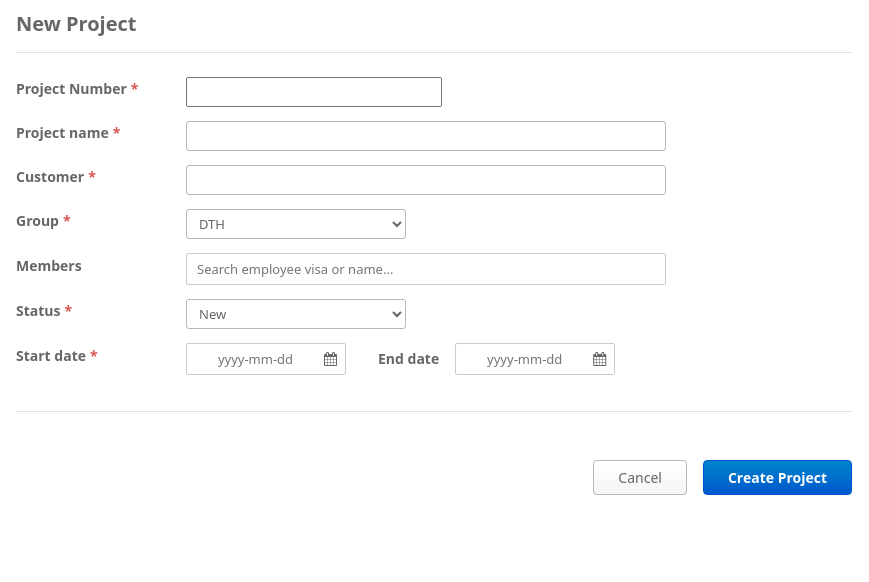
Test case: ProjectForm Component Tests › displays duplicate project number notice when number exists
Type "3116" into the field labelled "Project Number*" at (314, 92), box x1=186 y1=77 x2=442 y2=107
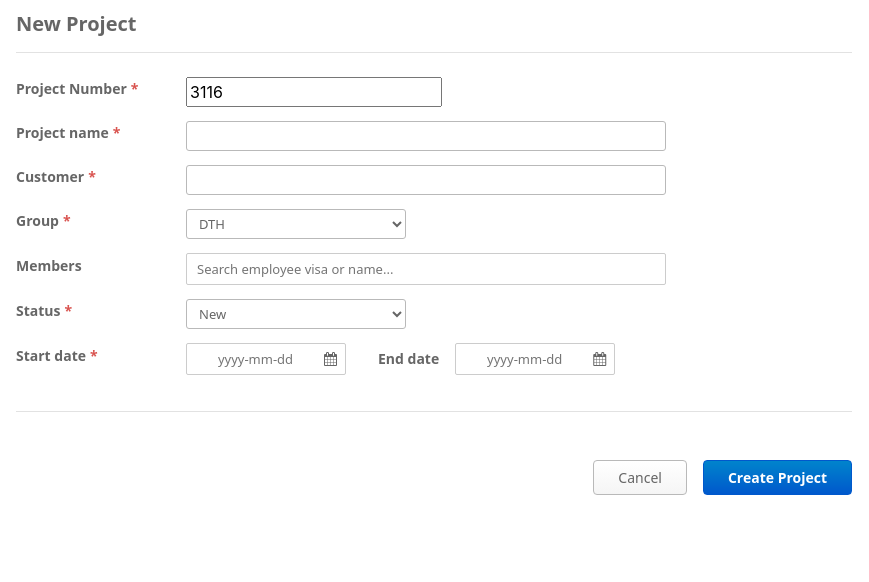
Type "Test Project" into the field labelled "Project name*" at (426, 136), box x1=186 y1=121 x2=666 y2=151
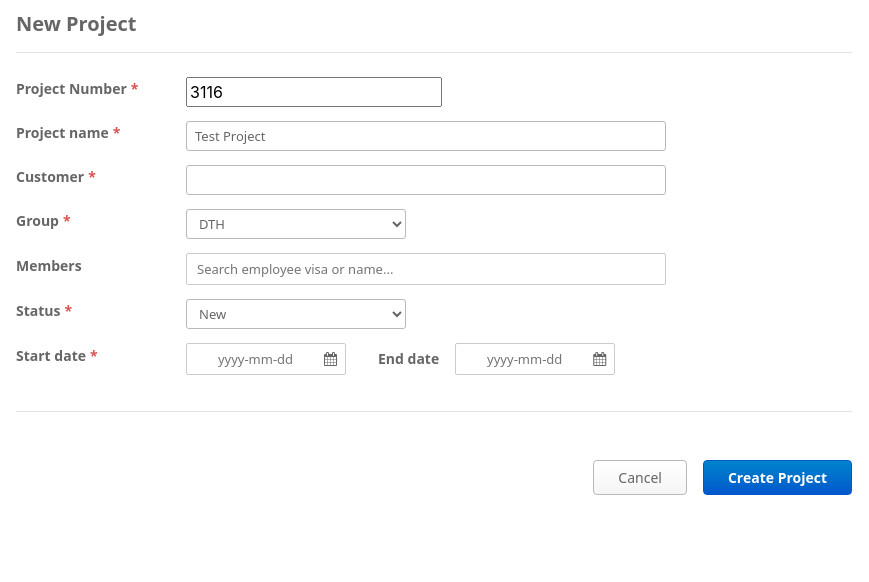
Type "Test Customer" into the field labelled "Customer*" at (426, 180), box x1=186 y1=165 x2=666 y2=195
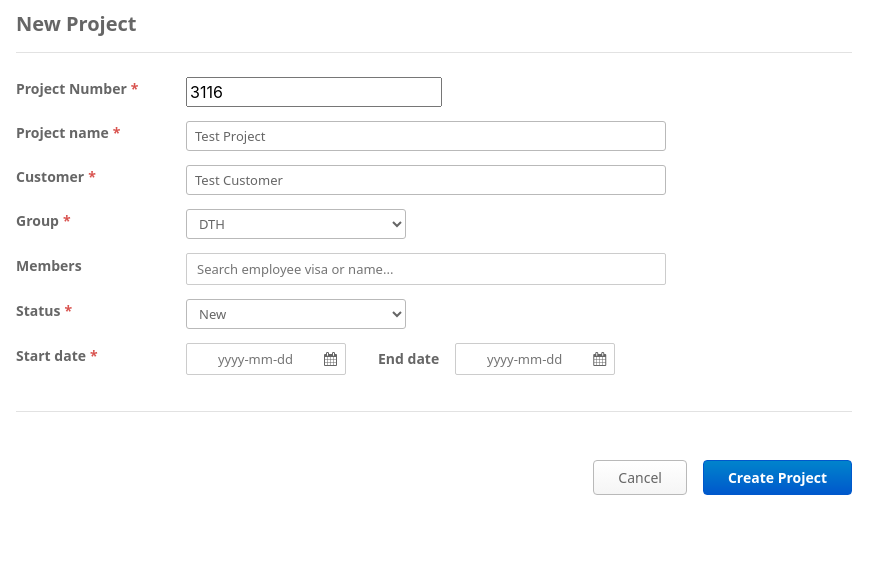
Type "2026-01-01" into the field labelled "Start date*" at (256, 359), box x1=191 y1=344 x2=320 y2=374
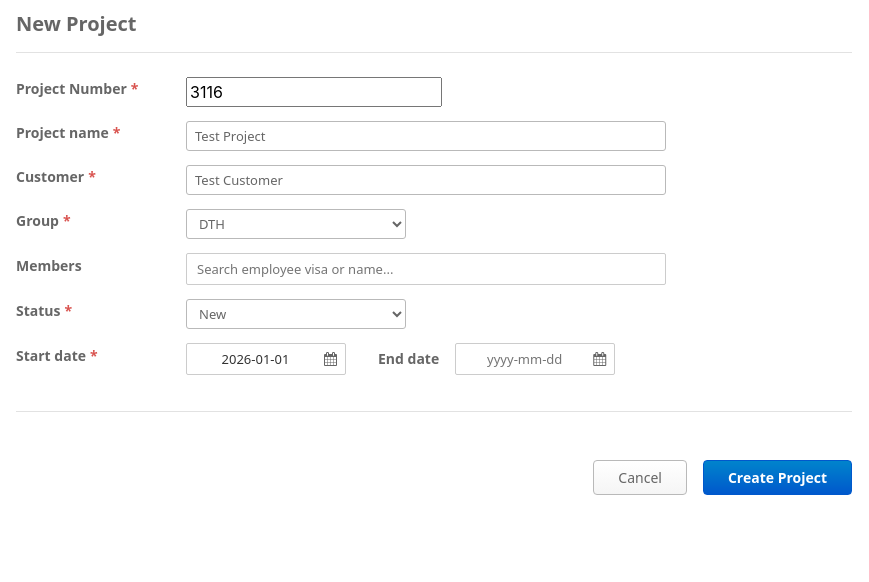
Click the button "Create Project" at (777, 478), box x1=703 y1=460 x2=852 y2=495
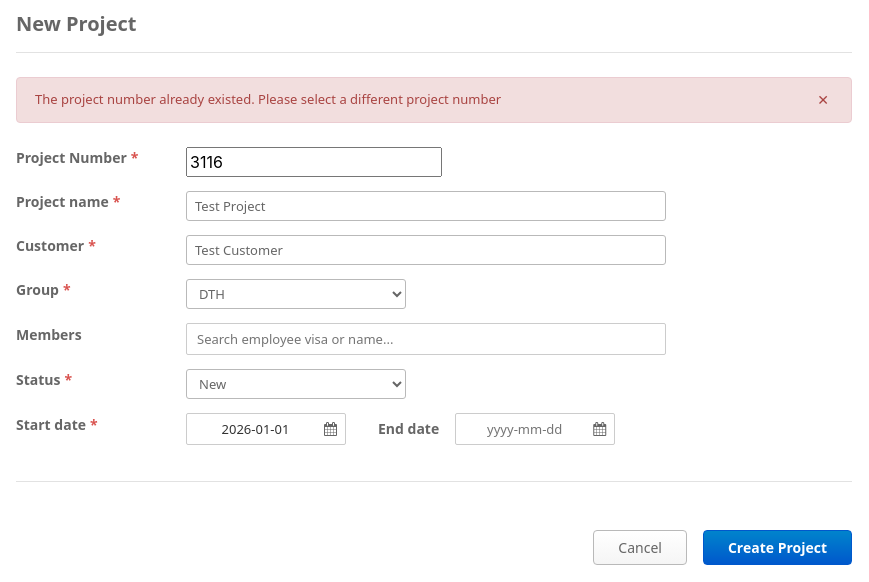
Check: the text "The project number already existed. Please select a different project number" is shown, box x1=35 y1=90 x2=501 y2=110
